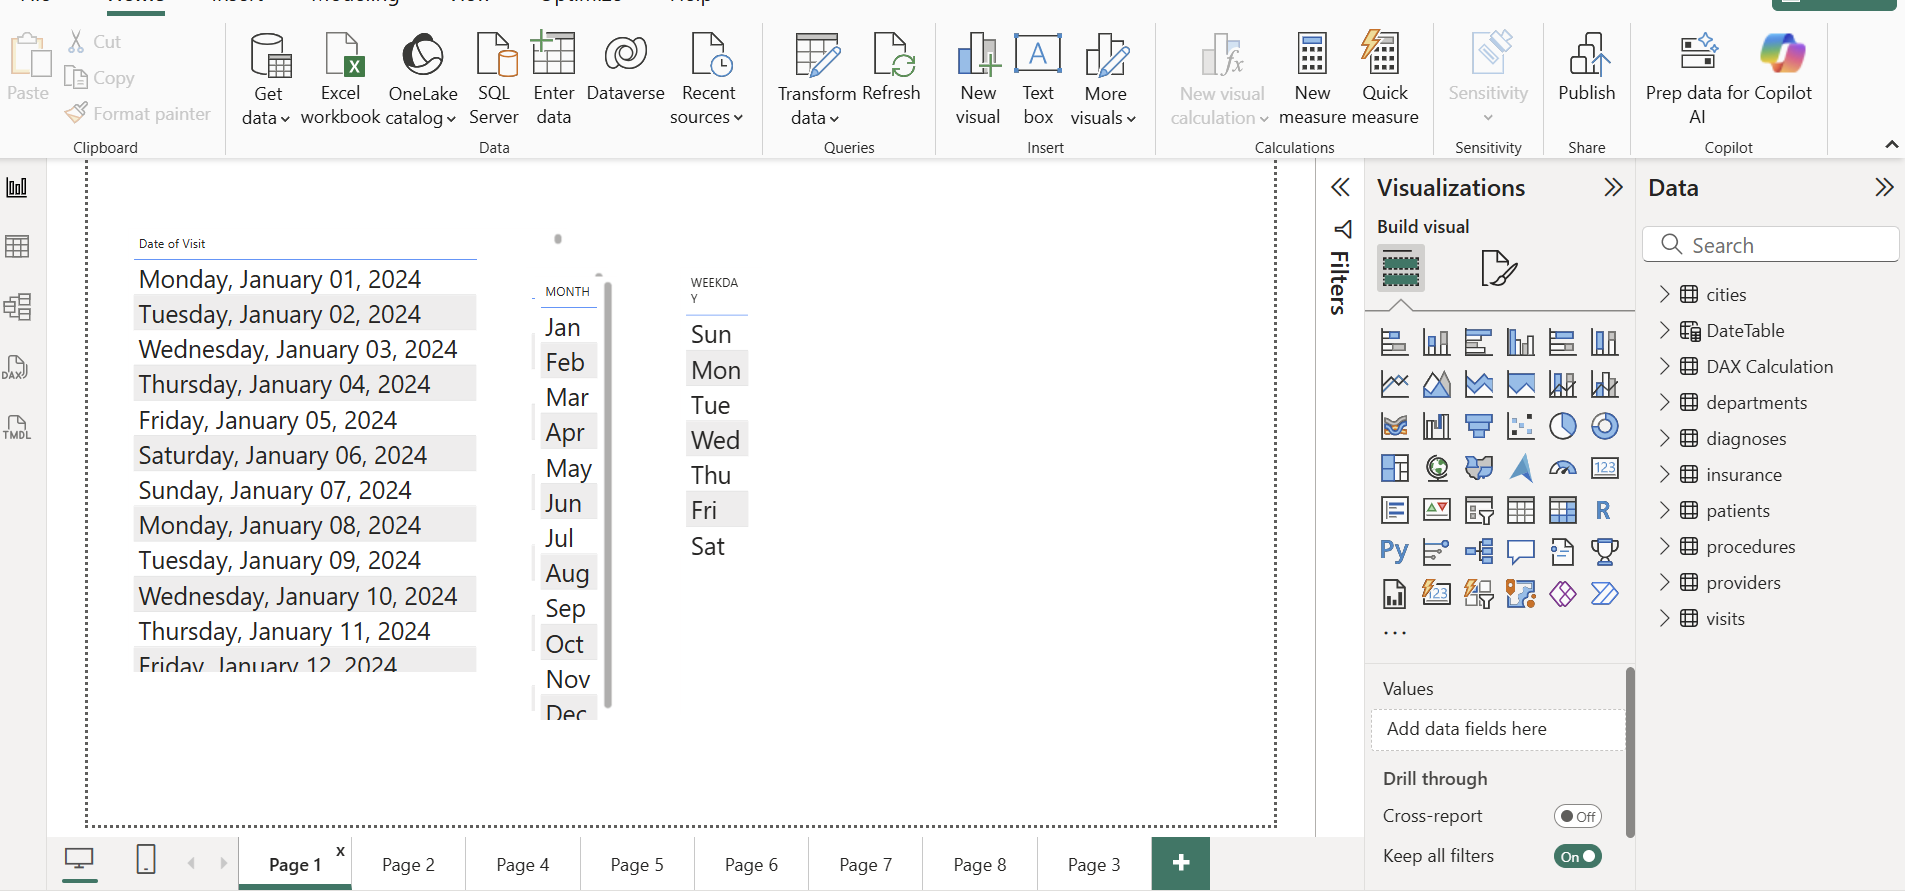

What the dashboard file says about the page in this screenshot:
{"tool":"powerbi","page":{"name":"Page 1","canvas":[1280,720],"ordinal":0},"visuals":[{"type":"tableEx","fields":{"Values":["visits.Date of Visit.Variation.Date Hierarchy.Year"]},"box":[44.1,76,473.3,483.1],"z":0},{"type":"tableEx","fields":{"Values":["DateTable.MONTH"]},"box":[473.3,117.7,88.3,483.1],"z":1000},{"type":"tableEx","fields":{"Values":["DateTable.MONTH"]},"box":[483.3,127.7,88.3,483.1],"z":2000},{"type":"tableEx","fields":{"Values":["DateTable.WEEKDAY"]},"box":[640,117.7,88.3,483.1],"z":3000}]}

Visuals, with their boxes on the page's 1280x720 design canvas (x1, y1, x2, y2). These are canvas units, not pixel positions in the 1905x891 screenshot, which may show the page scaled, cropped or inside an application window:
tableEx - visits.Date of Visit.Variation.Date Hierarchy.Year: (44, 76, 517, 559)
tableEx - DateTable.MONTH: (473, 118, 562, 601)
tableEx - DateTable.MONTH: (483, 128, 572, 611)
tableEx - DateTable.WEEKDAY: (640, 118, 728, 601)
